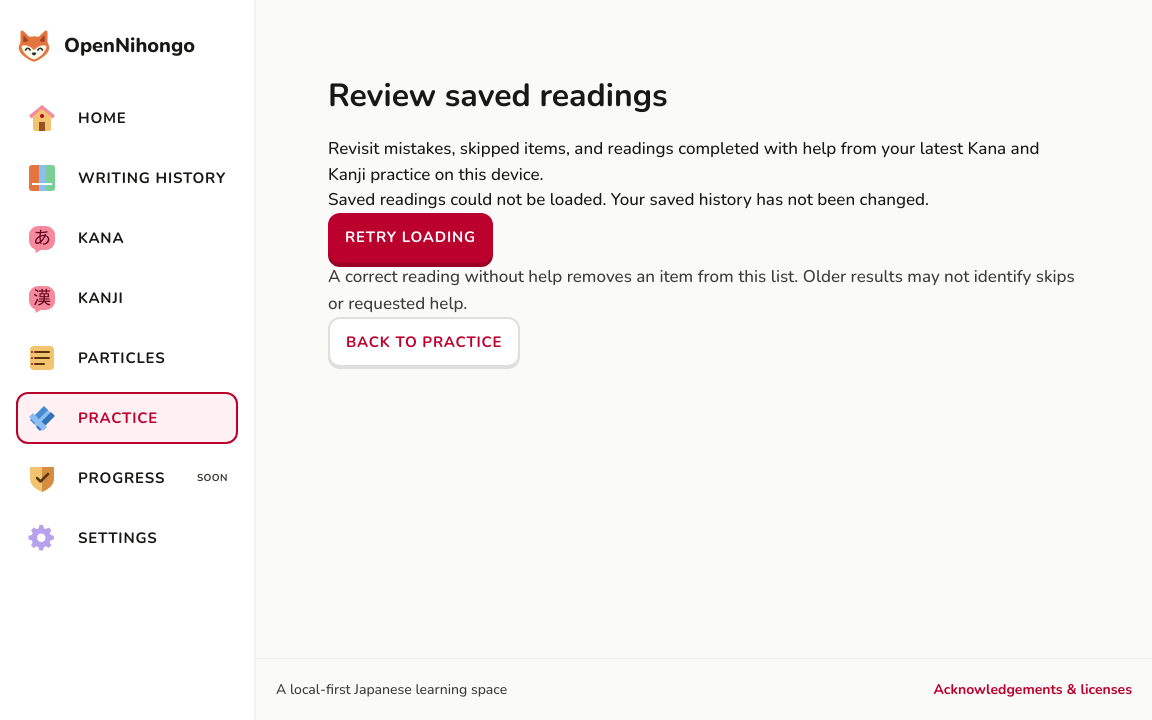
Test: offers a retry after a history read failure
expect the message shows "Saved readings could not be loaded": met, box [328,188,929,211]
Click the button "Retry loading": [410, 238] box [328,212,493,262]
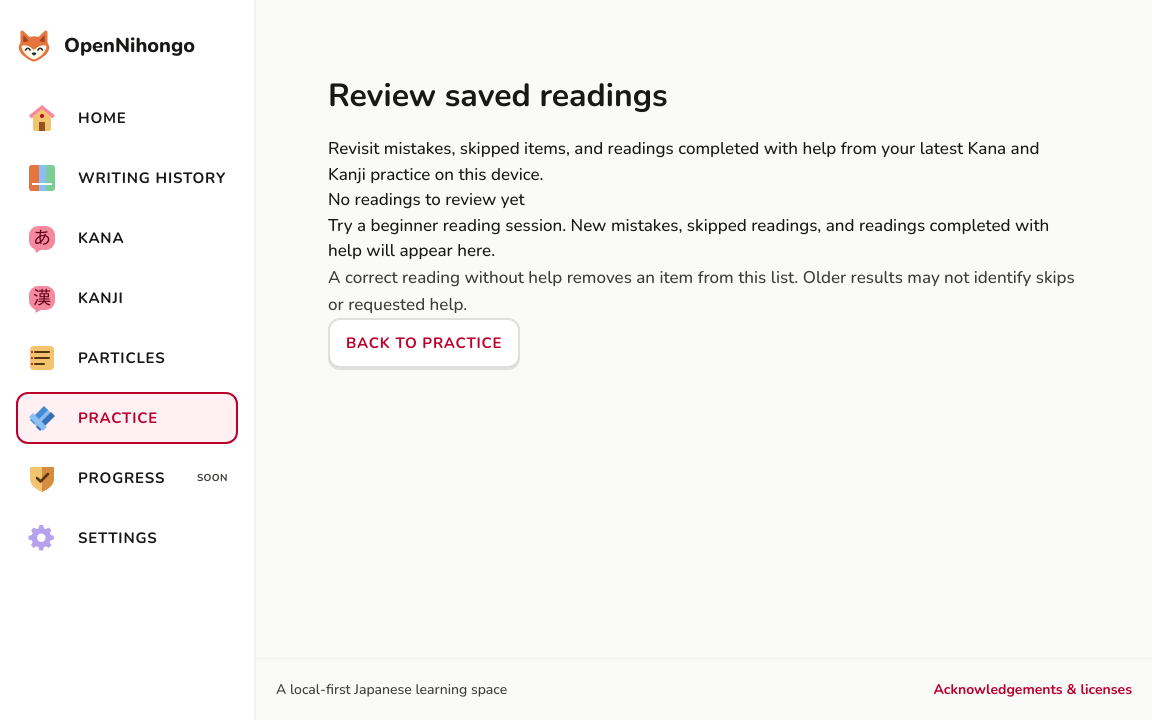
expect the heading "No readings to review yet" is shown: met, box [328,188,525,211]
